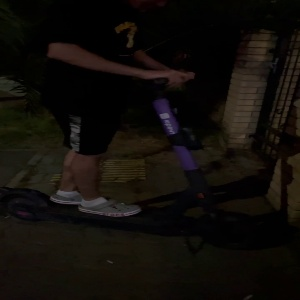human on a scooter: (1, 1, 263, 255)
